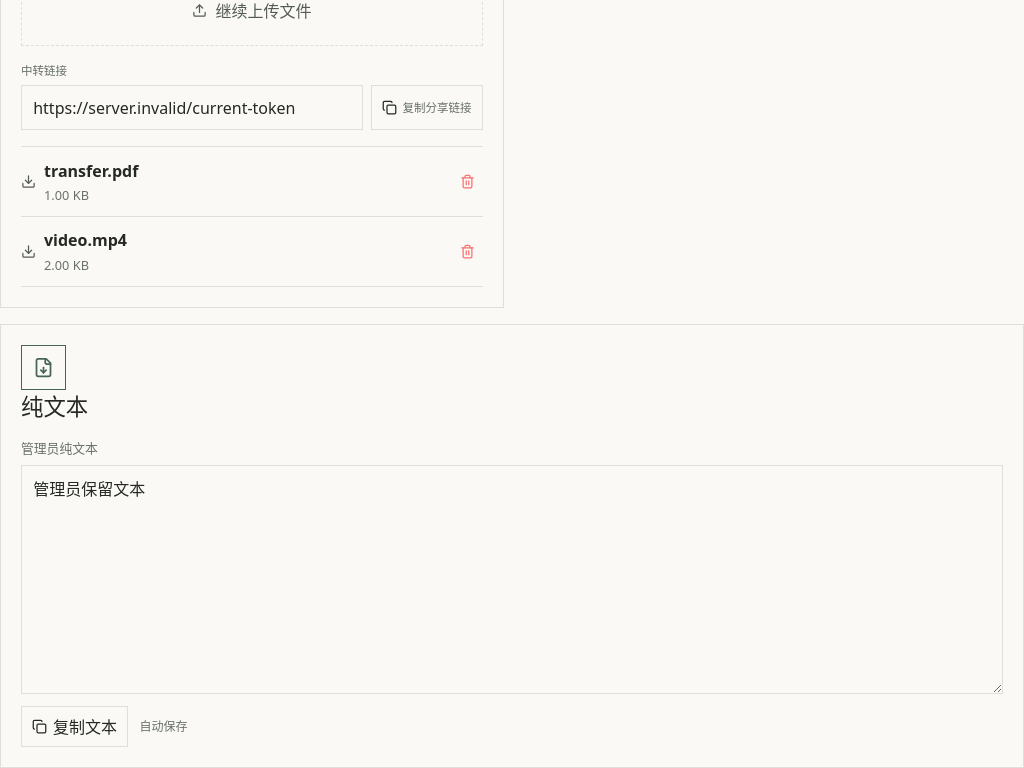
Test: administrator Files workspace › copies the administrator-only text
(page scrolled)
Click the button "复制文本": [75, 727] box [21,706,128,747]
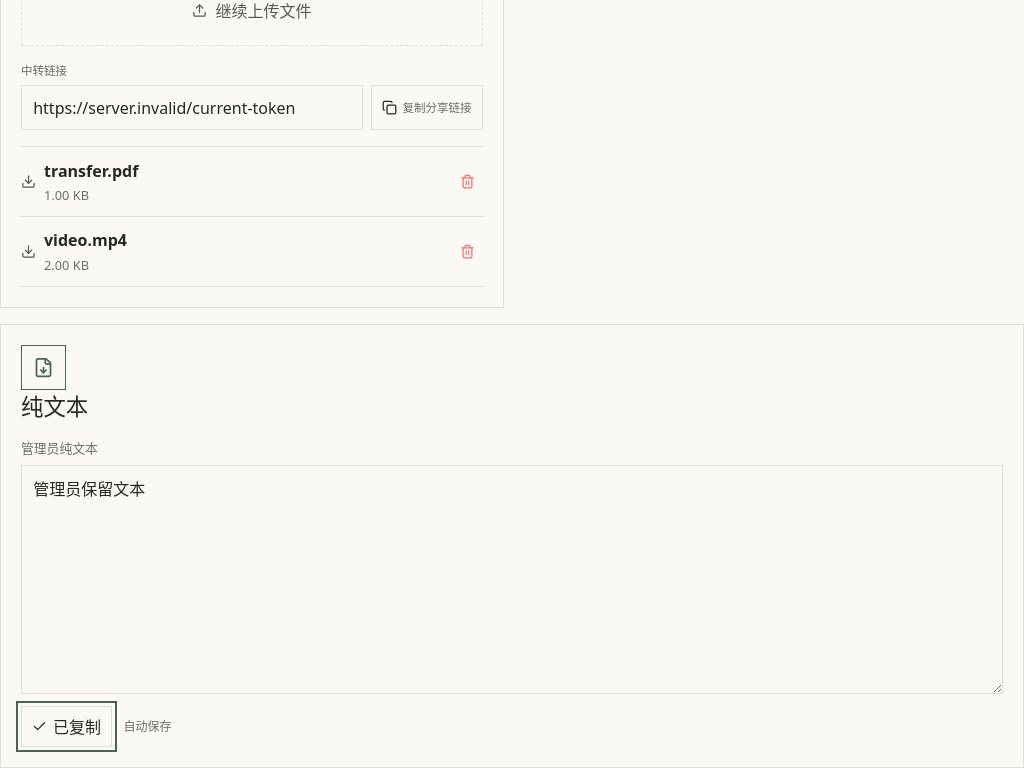
Expected: the button with aria-label "已复制文本" is shown, [21,706,112,747]
